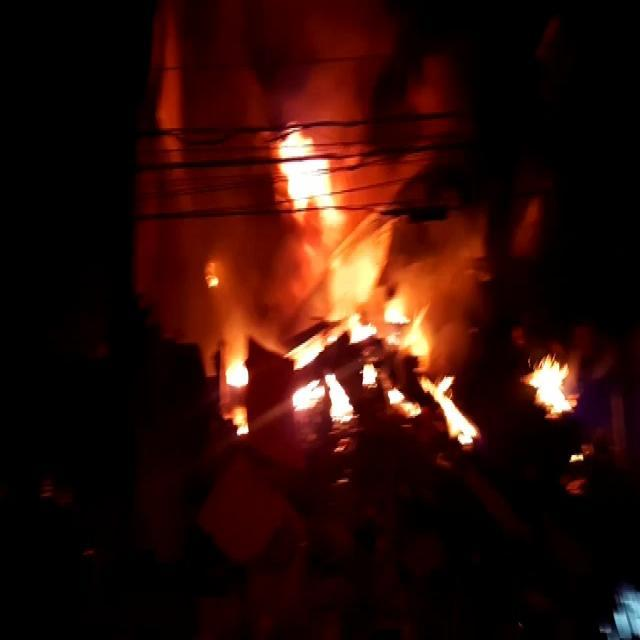Fire: (291, 226, 475, 364), (291, 311, 375, 425), (274, 128, 342, 214), (417, 373, 479, 450), (524, 354, 573, 425), (223, 356, 249, 390), (232, 405, 249, 439)
